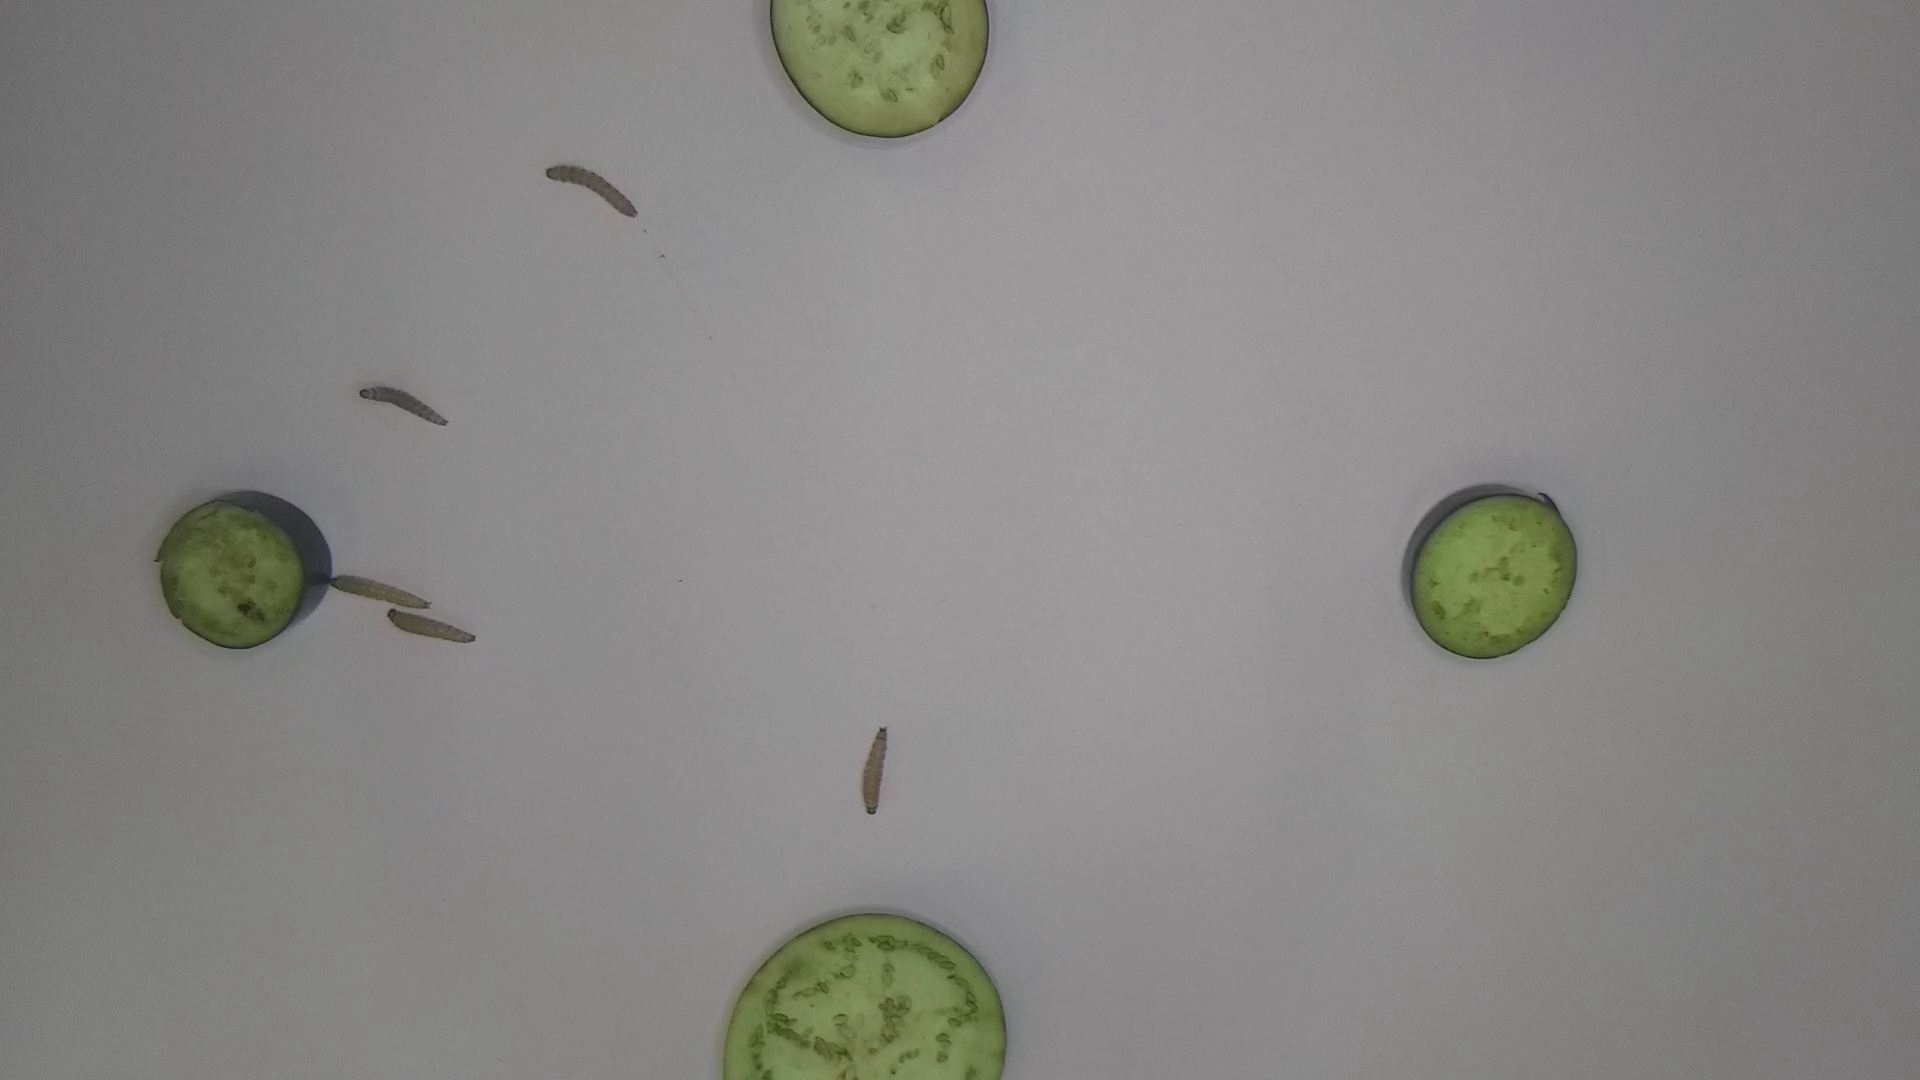efsb: (542, 161, 647, 220), (356, 377, 454, 429), (382, 607, 484, 651), (326, 574, 440, 611), (853, 716, 891, 820)
eggplant: (704, 901, 1021, 1080), (1398, 475, 1581, 671), (760, 1, 1000, 150), (146, 487, 336, 654)
